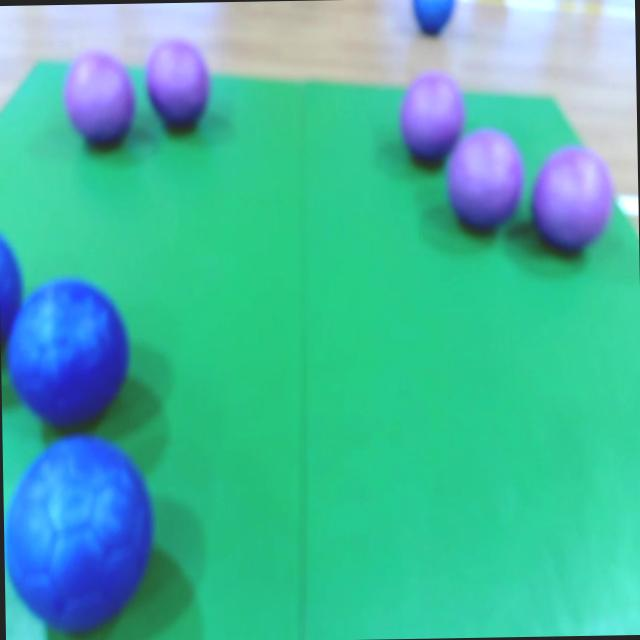blue_ball: (2, 430, 159, 631), (7, 271, 136, 433), (0, 225, 25, 365), (410, 0, 455, 37)
purple_ball: (532, 146, 616, 254), (447, 126, 525, 234), (63, 46, 135, 150), (146, 36, 213, 135), (400, 69, 468, 165)
